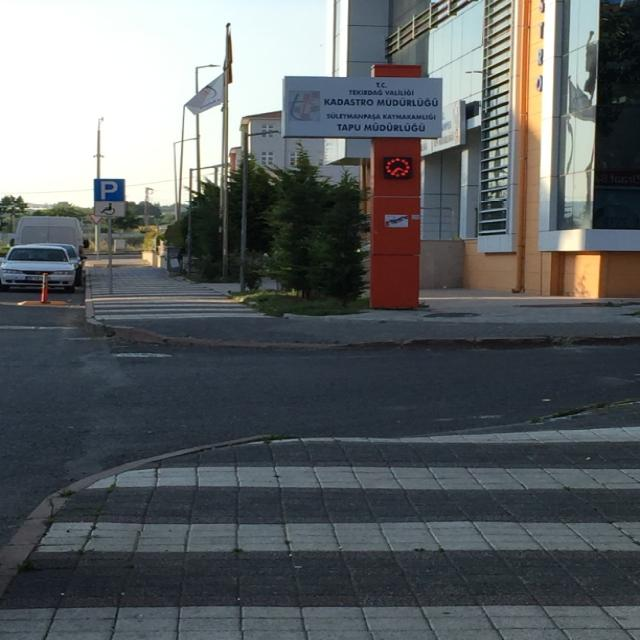park: (94, 180, 127, 203)
